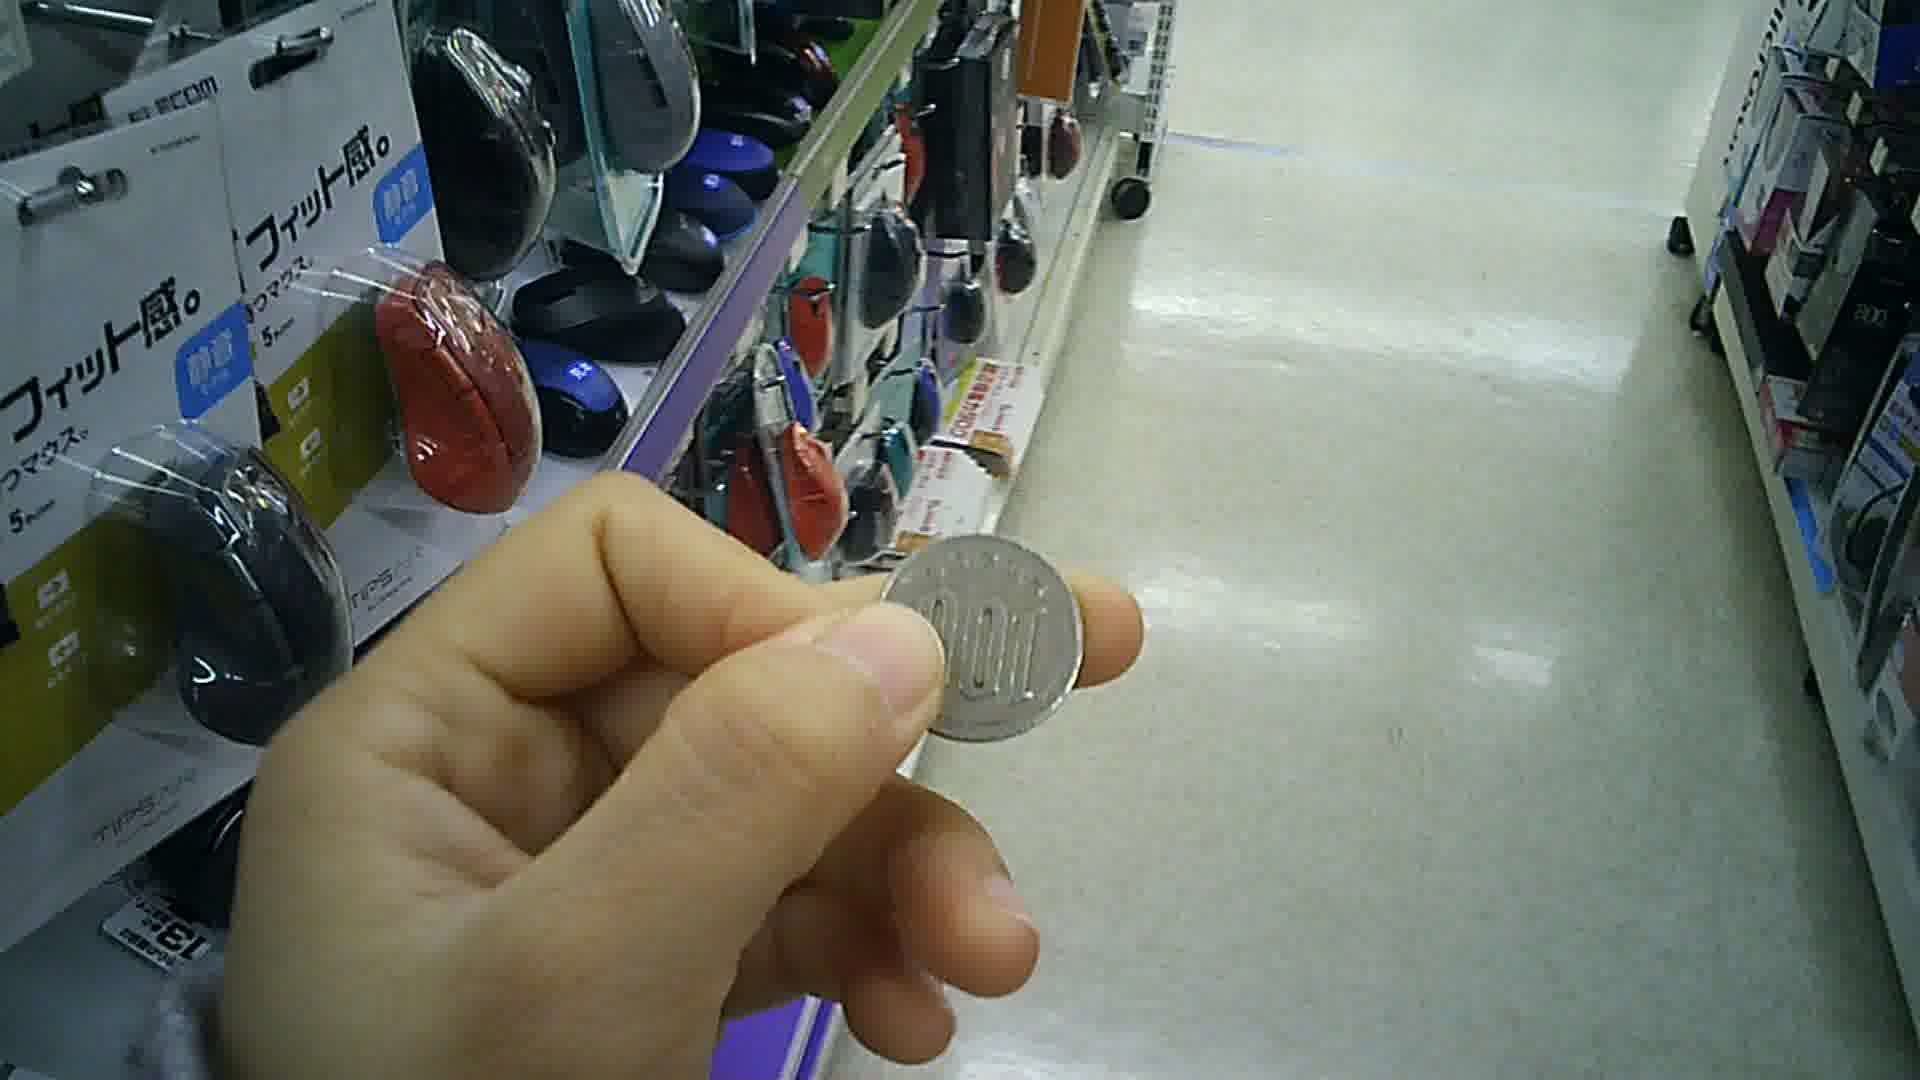100 Yen: (874, 530, 1091, 752)
